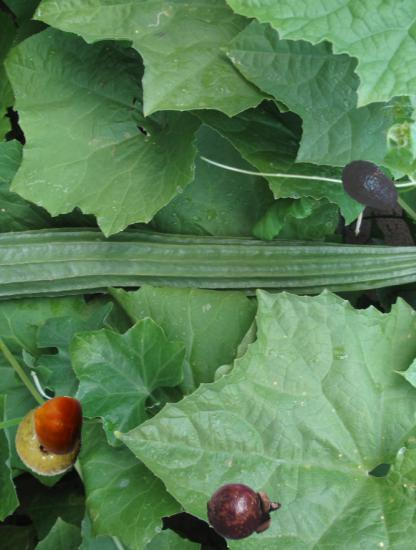Avocado: (338, 155, 402, 219)
Guava: (12, 403, 86, 477)
Mangostan: (207, 474, 282, 549)
Nut: (27, 395, 87, 455)
